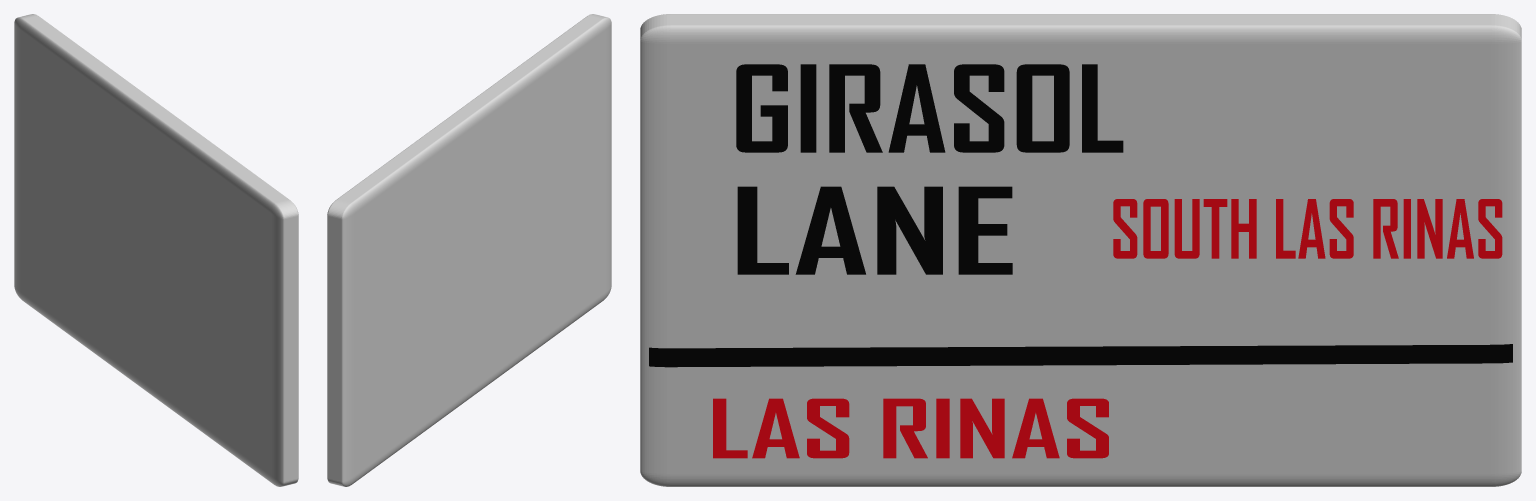
Rendered from las_rinas_sign_4.fbx.
The picture shows the model from 3 angles, left to right: view 1: azimuth 30°, elevation 25°; view 2: azimuth 150°, elevation 25°; view 3: azimuth 270°, elevation 25°; orthographic projection. The views are drawn at different scales.
Visible parts, largest first — view 1: Cube; view 2: Cube; view 3: Cube, Text, Text.001, Text.002, Text.003.
Boxes of the visible parts, <box> form: Cube: <box>14,14,298,486</box>; Cube: <box>327,14,611,486</box>; Cube: <box>640,14,1521,486</box>; Text: <box>736,64,1123,152</box>; Text.001: <box>737,186,1012,274</box>; Text.002: <box>713,398,1108,458</box>; Text.003: <box>1113,199,1502,258</box>.
Bounding box in the file's own units: 1.63 × 20.07 × 34.74.
